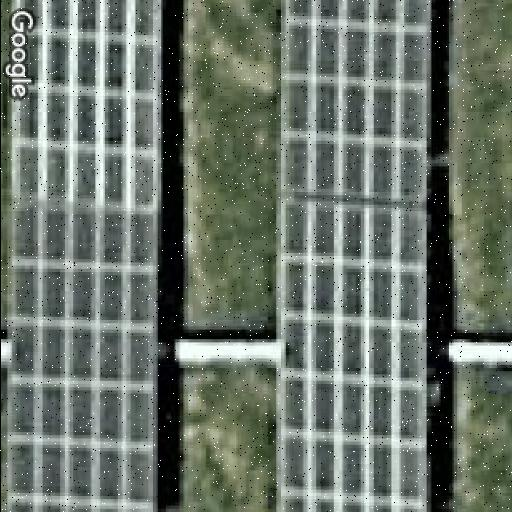solar-panel: (268, 0, 430, 512), (0, 0, 159, 512)
